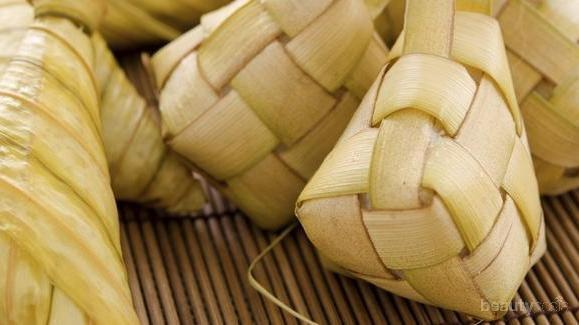ketupat: (294, 4, 548, 322), (150, 0, 387, 231)
